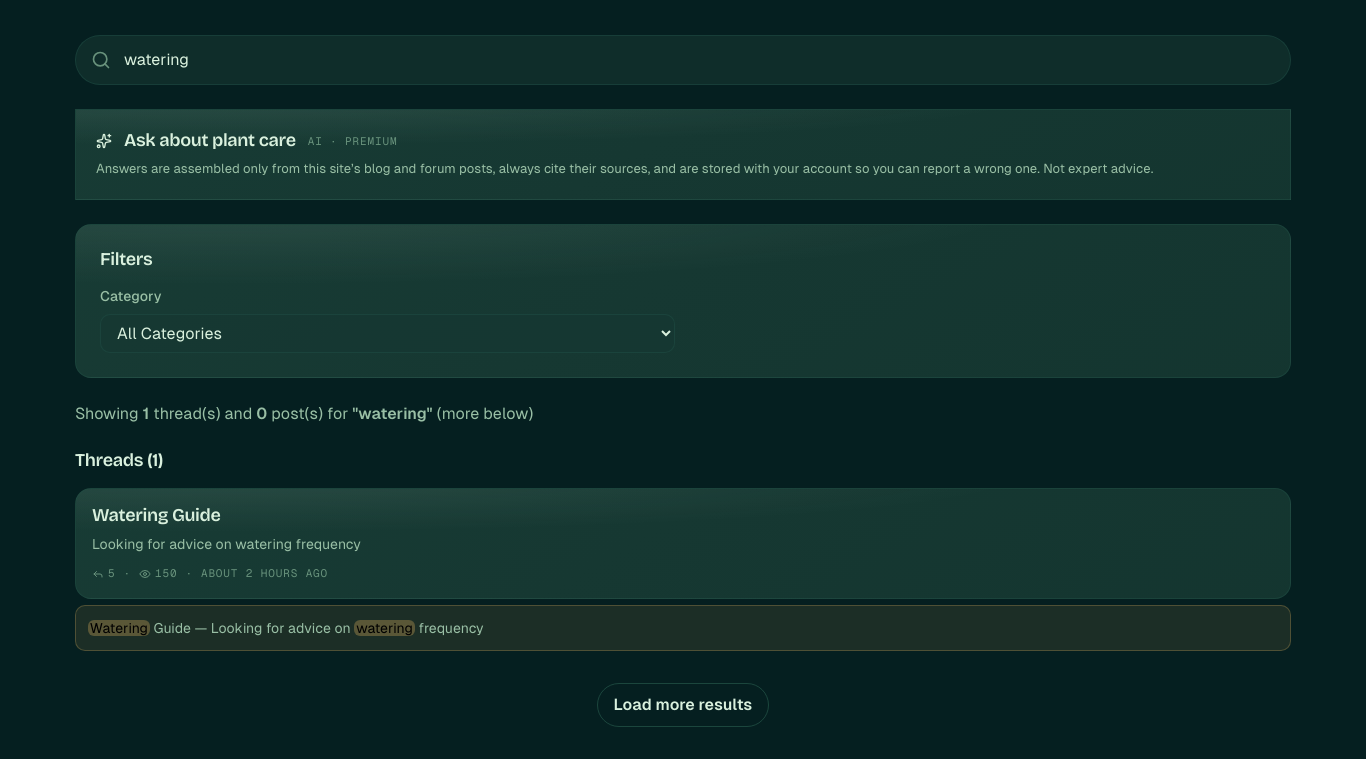
Test: SearchPage › Search Results › shows Load More when a section has_more, and appends the next page
The image size is (1366, 759).
(page scrolled)
Expected: the heading "Watering Guide" is shown, [92, 504, 220, 526]
Click the button "Load more results".
click(683, 705)  # box [597, 683, 769, 727]
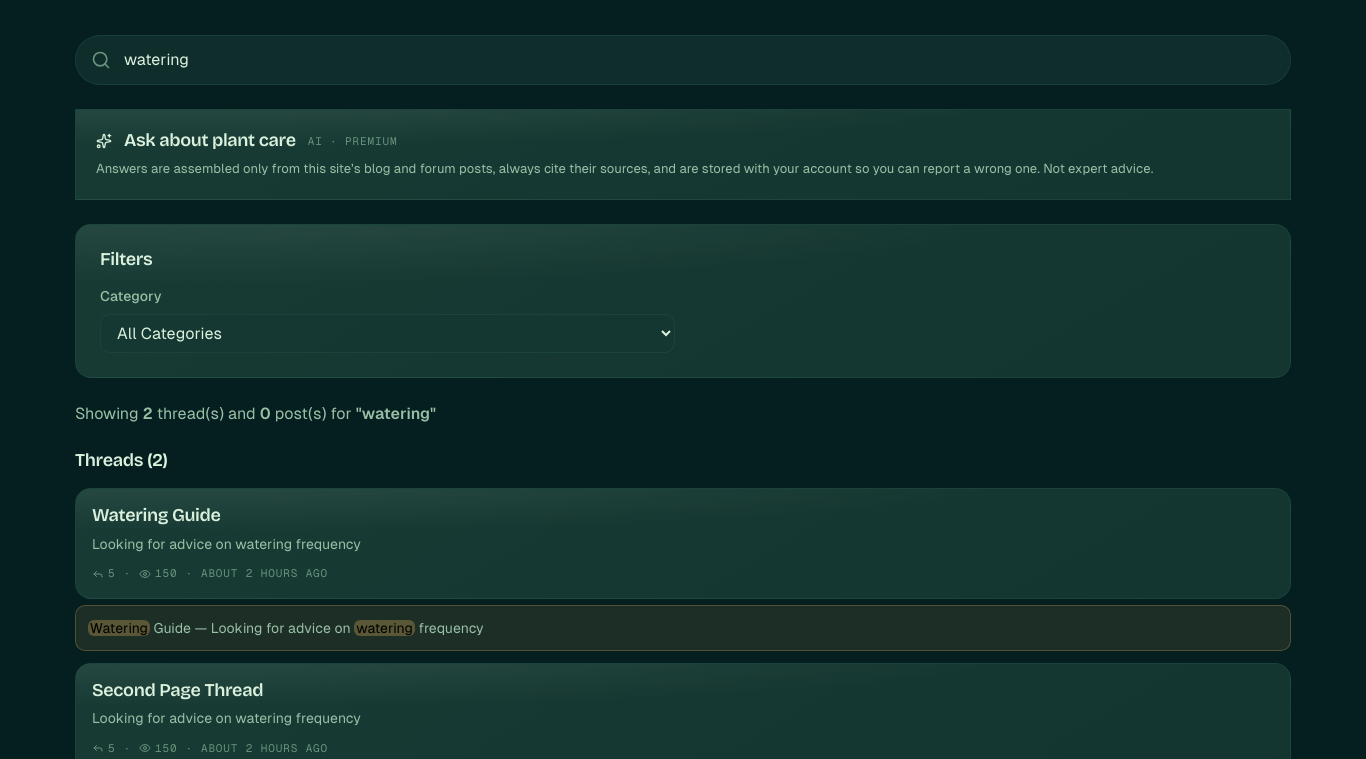
Expected: the heading "Watering Guide" is shown, [92, 504, 220, 526]
Result: the heading "Second Page Thread" is shown at [92, 679, 263, 701]
Result: the button "Load more results" is gone
